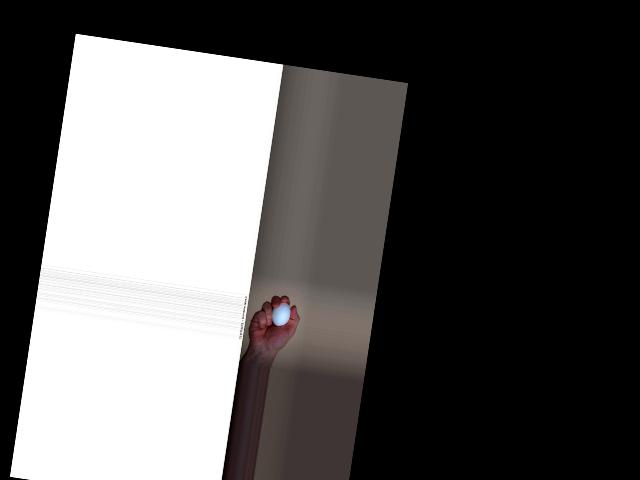egg: (270, 301, 291, 328)
